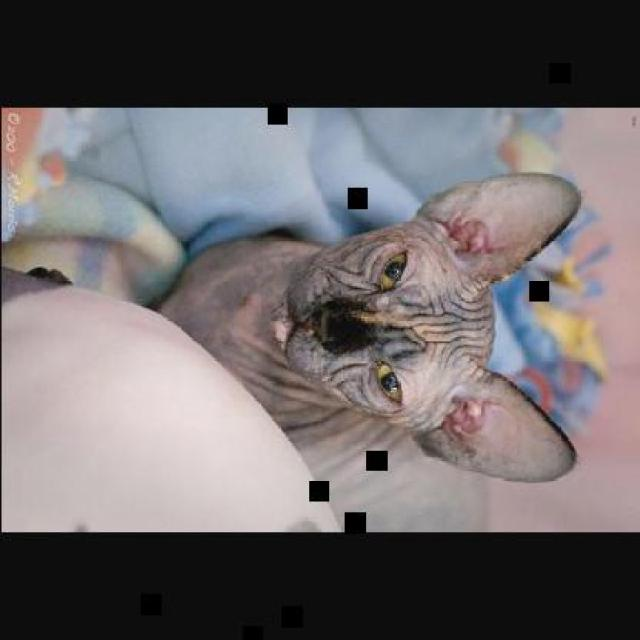unauthorized: (146, 169, 583, 486)
